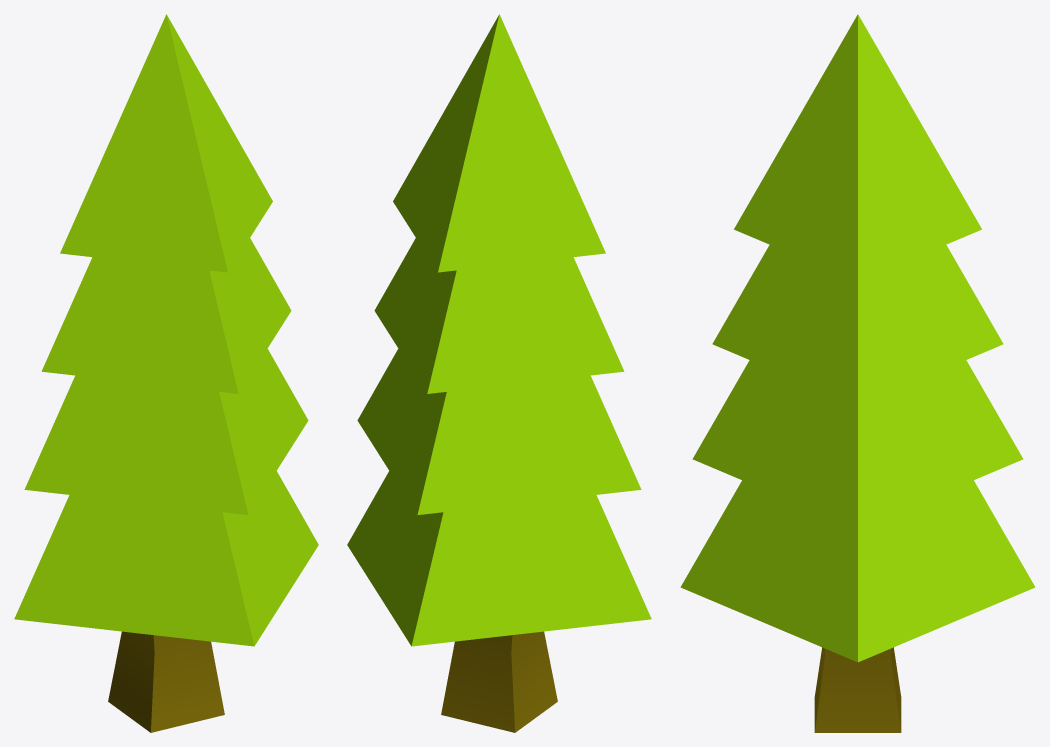
The model's file is tree2.fbx.
The picture shows the model from 3 angles, left to right: view 1: azimuth 30°, elevation 25°; view 2: azimuth 150°, elevation 25°; view 3: azimuth 270°, elevation 25°; orthographic projection.
Visible parts, largest first — view 1: pPyramid9; view 2: pPyramid9; view 3: pPyramid9.
Part boxes in pixels (x1,y1,x2,y2): pPyramid9: (14,14,318,732); pPyramid9: (347,14,651,732); pPyramid9: (680,14,1035,732).
Bounding box in the file's own units: 2.02 × 4.4 × 2.02.
